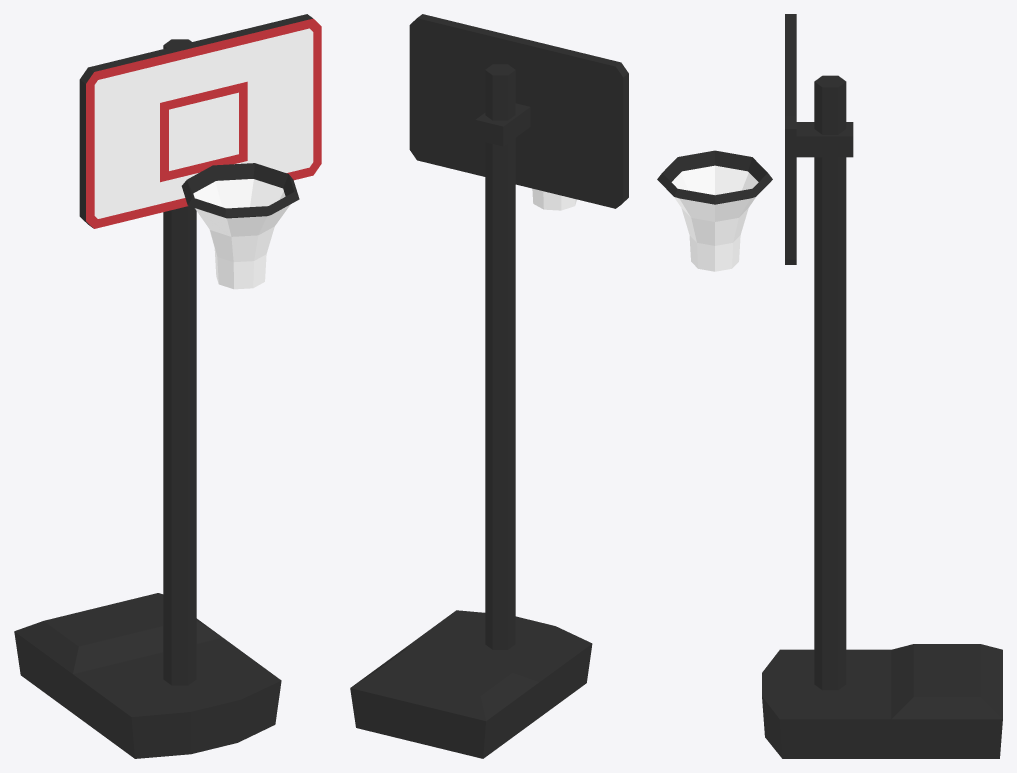
Rendered from basketball-stand.glb.
3 views of the same model, side by side, from view 1: azimuth 30°, elevation 25°; view 2: azimuth 150°, elevation 25°; view 3: azimuth 270°, elevation 25° (orthographic). The views are drawn at different scales.
Visible parts, largest first — view 1: basketball-stand; view 2: basketball-stand; view 3: basketball-stand.
Boxes of the visible parts, x1,y1,x2,y2 form: basketball-stand: (14, 14, 321, 758); basketball-stand: (350, 14, 628, 758); basketball-stand: (657, 14, 1002, 758).
Bounding box in the file's own units: 1.1 × 3.1 × 1.47.
1 material, 1 textured.
